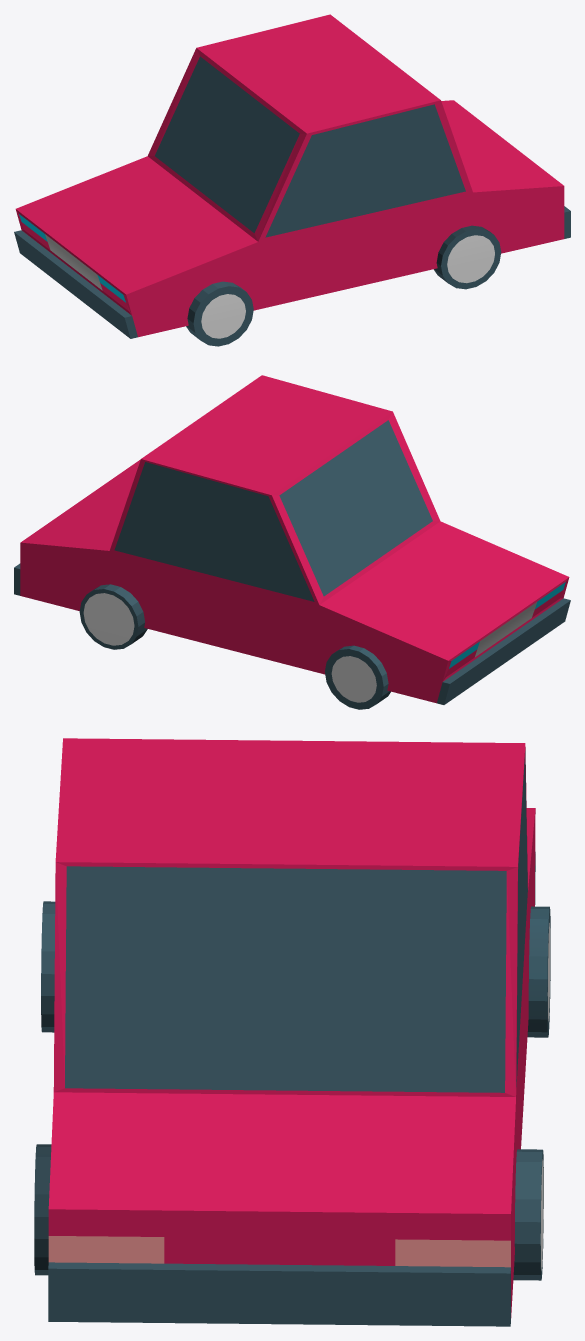
File: car_04_1_2_world_ap_0_lev1.glb
3 views of the same model, one above another, from view 1: azimuth 30°, elevation 25°; view 2: azimuth 150°, elevation 25°; view 3: azimuth 270°, elevation 25° (orthographic). The views are drawn at different scales.
Parts seen in each view (by area): view 1: car_04_1_2_world_ap_0_lev1; view 2: car_04_1_2_world_ap_0_lev1; view 3: car_04_1_2_world_ap_0_lev1.
Part boxes in pixels (box(x1,y1,x2,y2)): car_04_1_2_world_ap_0_lev1: box(14, 14, 570, 346); car_04_1_2_world_ap_0_lev1: box(14, 375, 570, 709); car_04_1_2_world_ap_0_lev1: box(34, 738, 550, 1326).
Size of the model in its own units: 1.49 by 0.6093 by 0.7488.
1 material, 1 textured.
